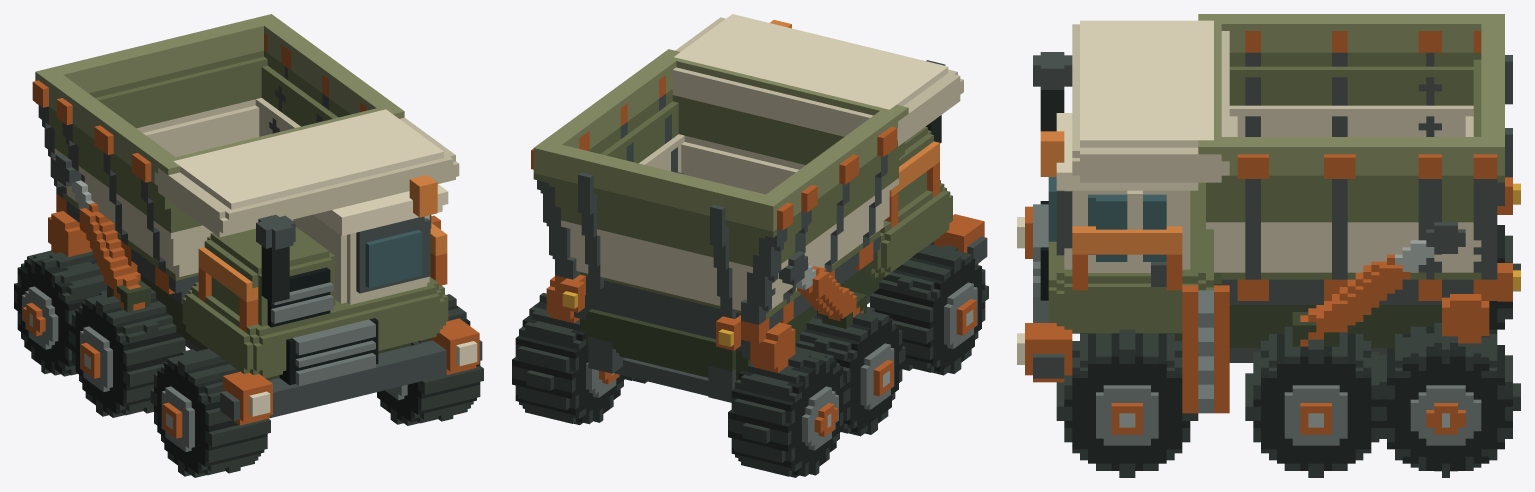
File: haul_truck.glb
3 renders of one model, left to right at view 1: azimuth 30°, elevation 25°; view 2: azimuth 150°, elevation 25°; view 3: azimuth 270°, elevation 25°, orthographic. The views are drawn at different scales.
Parts seen in each view (by area): view 1: haul_truck; view 2: haul_truck; view 3: haul_truck.
Boxes of the visible parts, <box> form: haul_truck: <box>14,14,483,477</box>; haul_truck: <box>512,14,988,477</box>; haul_truck: <box>1017,14,1520,477</box>.
Bounding box in the file's own units: 5.5 × 4.95 × 7.04.
